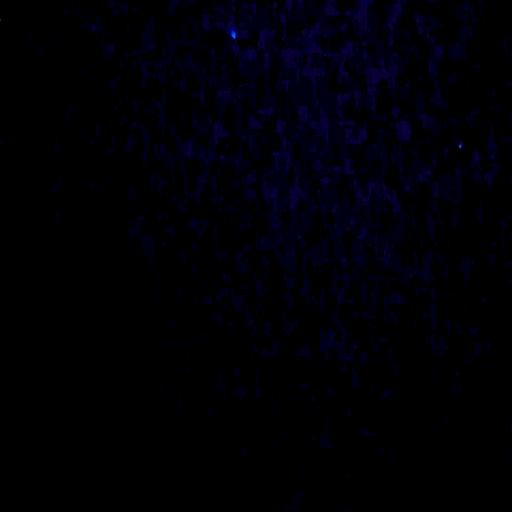object-detection-project: (231, 30, 235, 38)
